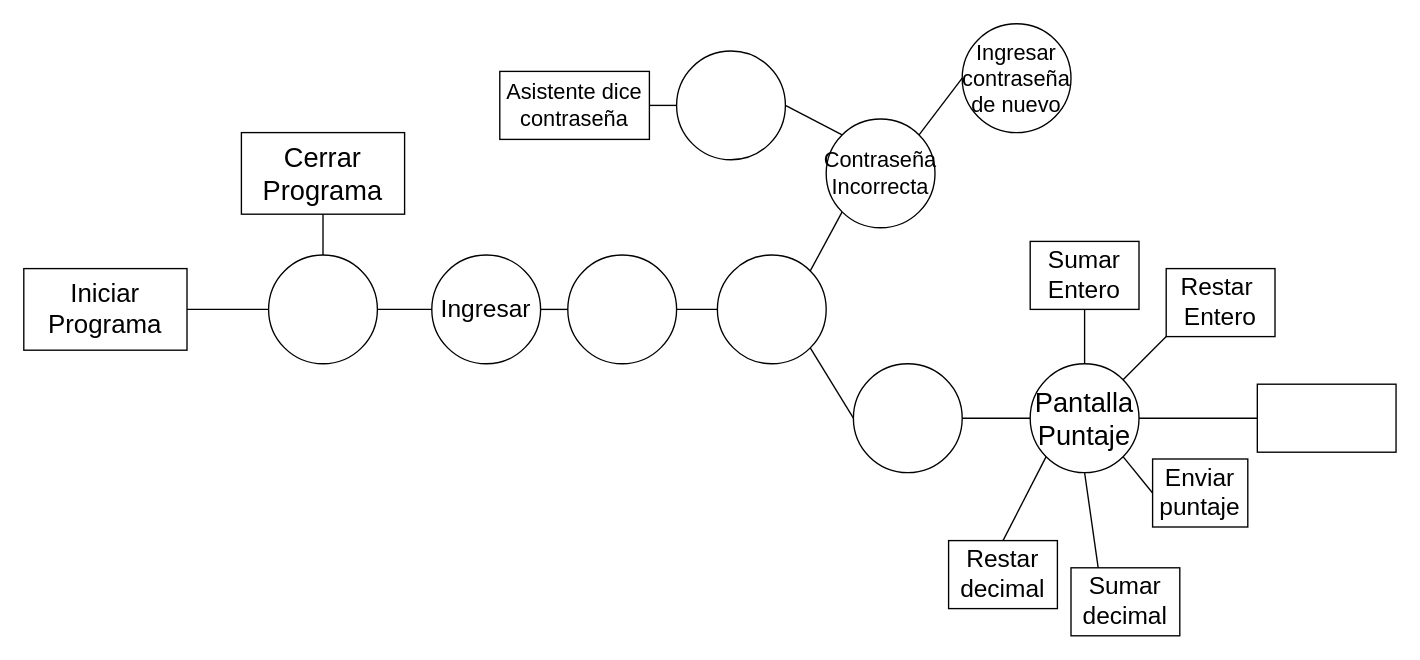
Some shapes in this 1420 by 660 pixel diagram are drawn without their labels. Here are the shapes that lost their labels. From the top down, the centre of each, then its label:
At (730,105): "Solicitar asistencia".
At (322,309): "Menu Principal".
At (621,309): "Log in".
At (771,309): "Elegir usuario".
At (907,417): "Contraseña correcta".
At (1326,417): "Descalificar".
